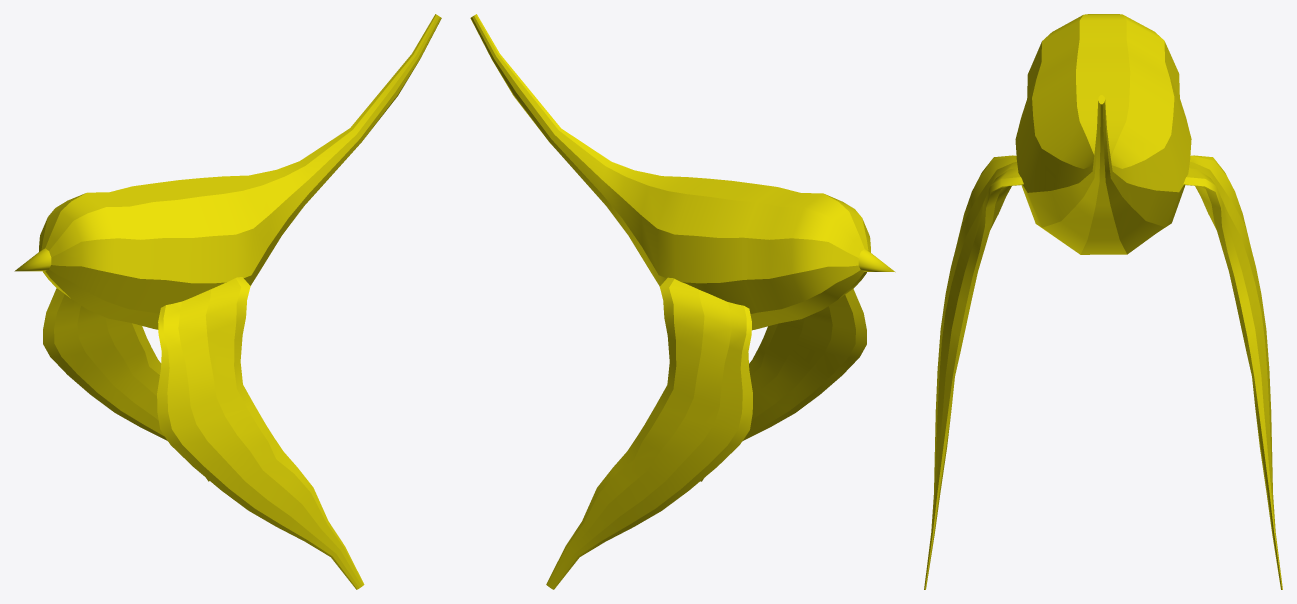
File: Birdflying_animation.fbx
3 renders of one model, left to right at view 1: azimuth 30°, elevation 25°; view 2: azimuth 150°, elevation 25°; view 3: azimuth 270°, elevation 25°, orthographic. The views are drawn at different scales.
Parts seen in each view (by area): view 1: WholeBirdFlyingBody1; view 2: WholeBirdFlyingBody1; view 3: WholeBirdFlyingBody1.
Part boxes in pixels (x1,y1,x2,y2): WholeBirdFlyingBody1: (14, 14, 441, 589); WholeBirdFlyingBody1: (470, 14, 895, 589); WholeBirdFlyingBody1: (924, 14, 1282, 589).
Bounding box in the file's own units: 29.73 × 32.29 × 17.98.
